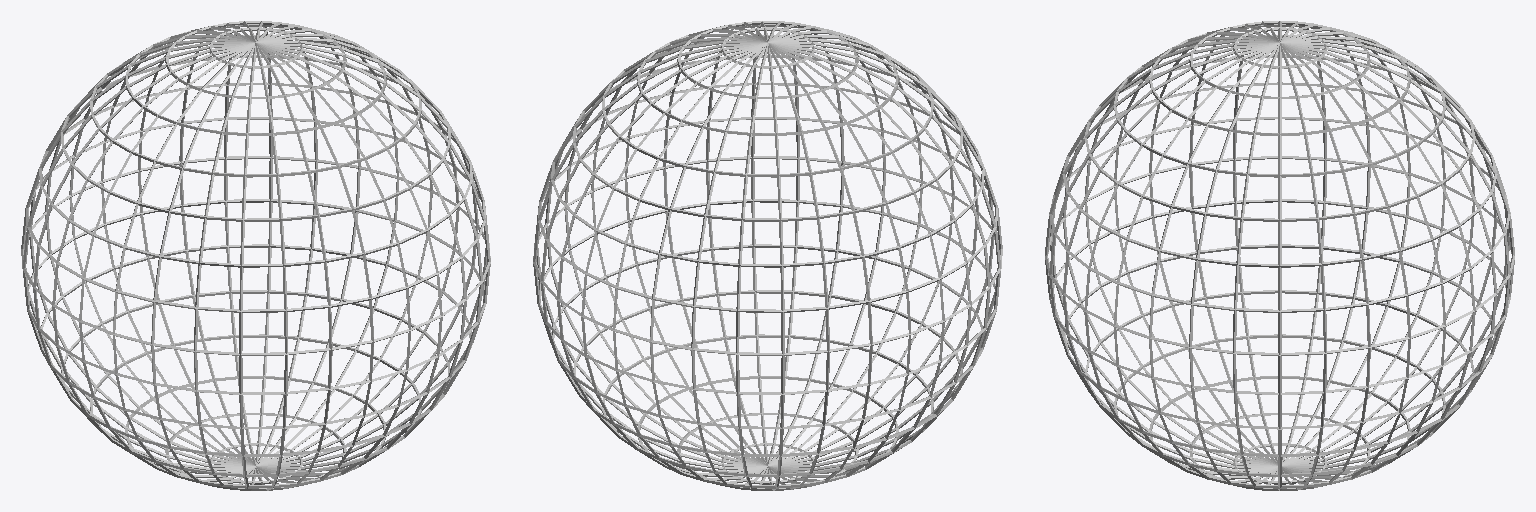
File: SphereWireframe.obj
3 views of the same model, side by side, from view 1: azimuth 30°, elevation 25°; view 2: azimuth 150°, elevation 25°; view 3: azimuth 270°, elevation 25° (orthographic).
Parts seen in each view (by area): view 1: Sphere; view 2: Sphere; view 3: Sphere.
Part boxes in pixels (x1,y1,x2,y2): Sphere: (21,21,490,490); Sphere: (533,21,1002,490); Sphere: (1045,21,1514,490).
Bounding box in the file's own units: 200 × 200 × 200.